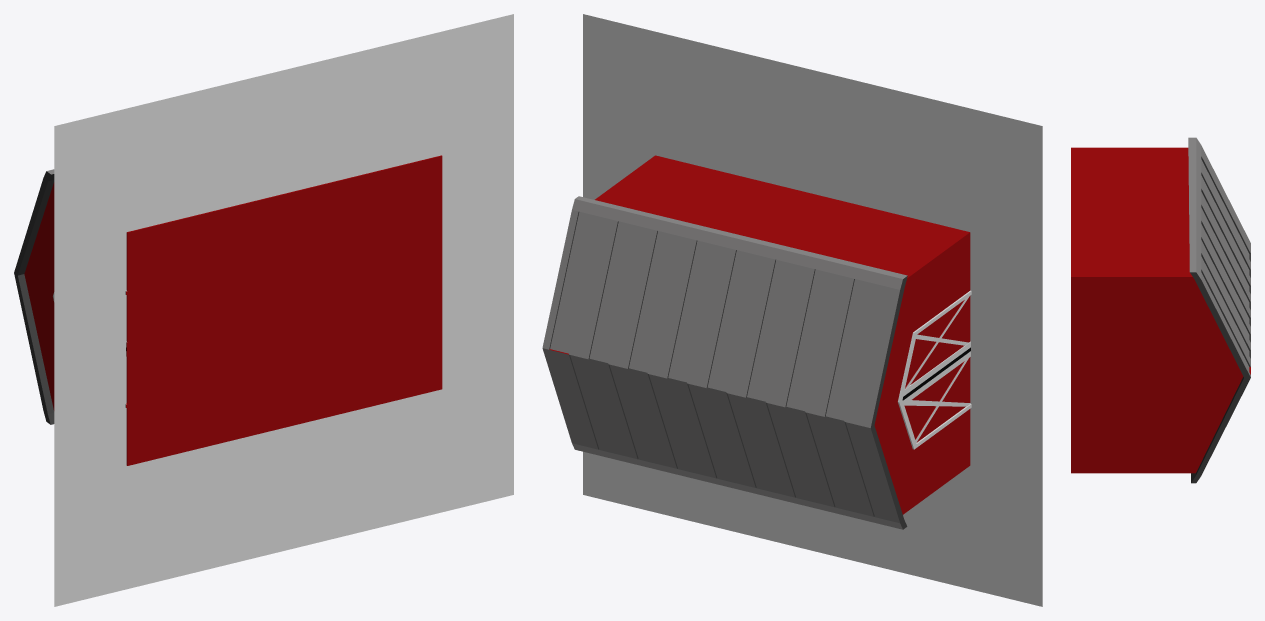
The model's file is barn.fbx.
The picture shows the model from 3 angles, left to right: view 1: azimuth 30°, elevation 25°; view 2: azimuth 150°, elevation 25°; view 3: azimuth 270°, elevation 25°; orthographic projection. The views are drawn at different scales.
Parts seen in each view (by area): view 1: Plane, Cube; view 2: Cube, Plane; view 3: Cube.
Part boxes in pixels (x1,y1,x2,y2): Plane: (54,14,513,606); Cube: (14,155,442,465); Cube: (542,155,971,529); Plane: (583,14,1042,606); Cube: (1071,137,1250,483).
Size of the model in its own units: 1000 by 1000 by 403.
